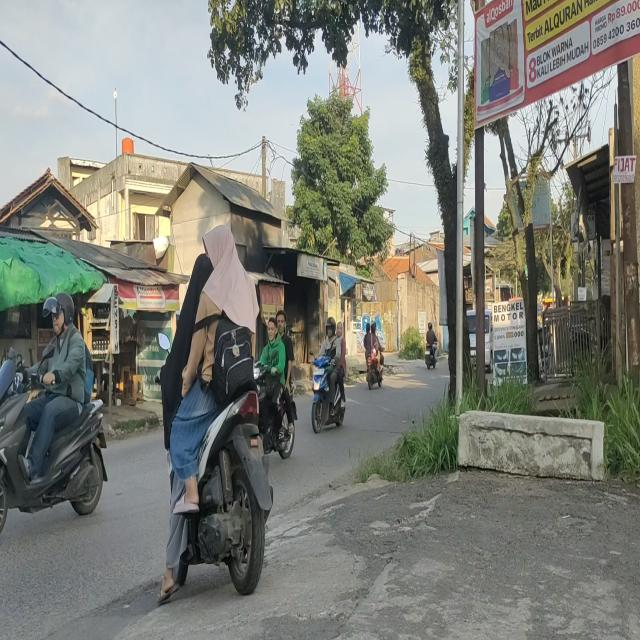helmet: (51, 293, 74, 333), (324, 315, 336, 338), (428, 322, 433, 331)
no-helmet: (203, 223, 240, 273), (186, 253, 211, 298), (267, 318, 278, 341), (277, 310, 287, 332), (336, 321, 343, 337), (371, 322, 379, 333), (365, 323, 372, 334)
